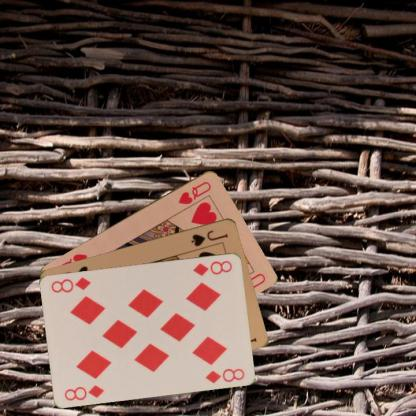8d: (62, 382, 105, 401), (191, 258, 234, 276)
Js: (188, 227, 230, 247)
Qh: (176, 178, 212, 206)
